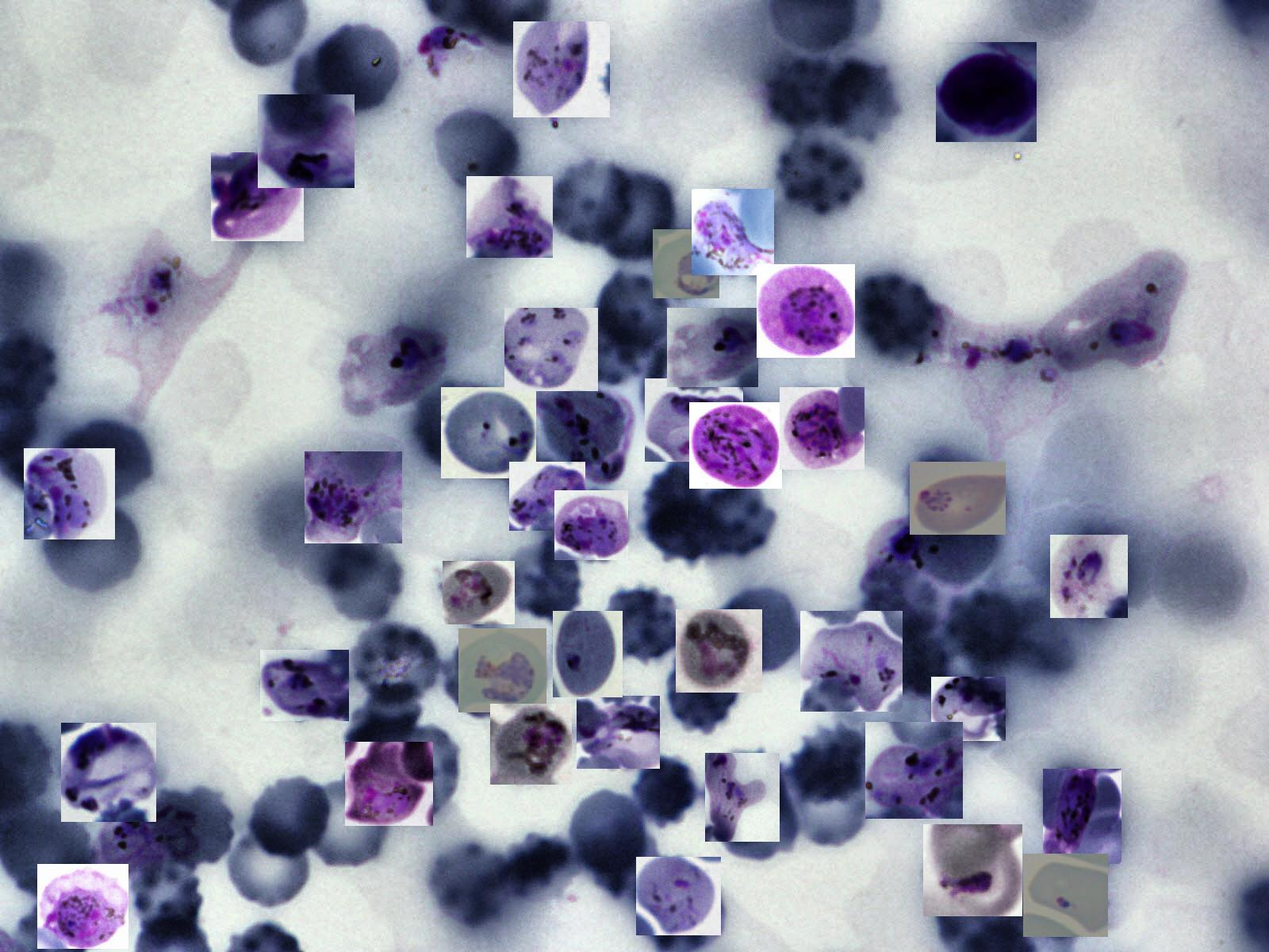Infected: (104, 228, 247, 416), (922, 304, 1069, 435), (1037, 250, 1187, 370), (858, 517, 967, 633), (531, 378, 640, 483), (800, 611, 903, 712), (416, 27, 523, 124), (339, 320, 446, 414), (936, 43, 1037, 142), (90, 793, 201, 881), (865, 722, 963, 819), (61, 723, 156, 822), (513, 21, 610, 117), (757, 264, 855, 358), (258, 94, 355, 188), (923, 824, 1022, 916), (305, 451, 402, 543), (441, 387, 536, 478), (24, 448, 115, 539), (211, 152, 304, 241), (645, 378, 743, 462), (689, 402, 782, 489), (504, 308, 598, 391), (37, 864, 128, 949), (1043, 769, 1121, 864), (345, 742, 433, 826), (458, 628, 546, 712), (677, 609, 763, 693), (668, 308, 759, 387), (466, 176, 553, 258), (780, 387, 865, 470), (1023, 854, 1108, 937), (692, 189, 774, 275), (910, 462, 1006, 535), (490, 704, 572, 785), (636, 857, 721, 935), (706, 753, 780, 842), (1050, 535, 1128, 618), (260, 650, 349, 721), (577, 696, 660, 769), (553, 611, 623, 697), (509, 462, 585, 531), (554, 490, 628, 560), (931, 678, 1006, 742), (653, 229, 719, 298), (443, 561, 515, 624)
Uninfected: (40, 501, 144, 599), (55, 414, 155, 506), (592, 165, 682, 264), (544, 154, 638, 248), (347, 623, 446, 712), (715, 582, 806, 677), (316, 536, 409, 628), (297, 777, 390, 869), (222, 819, 313, 912), (311, 21, 403, 112), (773, 135, 870, 218), (854, 269, 939, 363), (689, 477, 781, 563), (645, 459, 719, 562), (433, 108, 523, 192), (247, 775, 335, 860), (664, 642, 744, 735), (380, 727, 462, 815), (414, 384, 497, 470), (448, 638, 531, 723), (785, 721, 870, 804), (916, 506, 1003, 585), (431, 843, 512, 927), (601, 586, 686, 666), (562, 316, 658, 385), (570, 789, 646, 876), (721, 776, 796, 864), (578, 818, 661, 897), (504, 539, 585, 619), (949, 589, 1025, 669), (797, 764, 872, 845), (828, 56, 899, 141), (594, 273, 672, 350), (290, 44, 366, 122), (163, 785, 236, 866), (767, 60, 842, 134), (344, 682, 420, 754), (502, 833, 584, 898), (625, 759, 698, 828)
